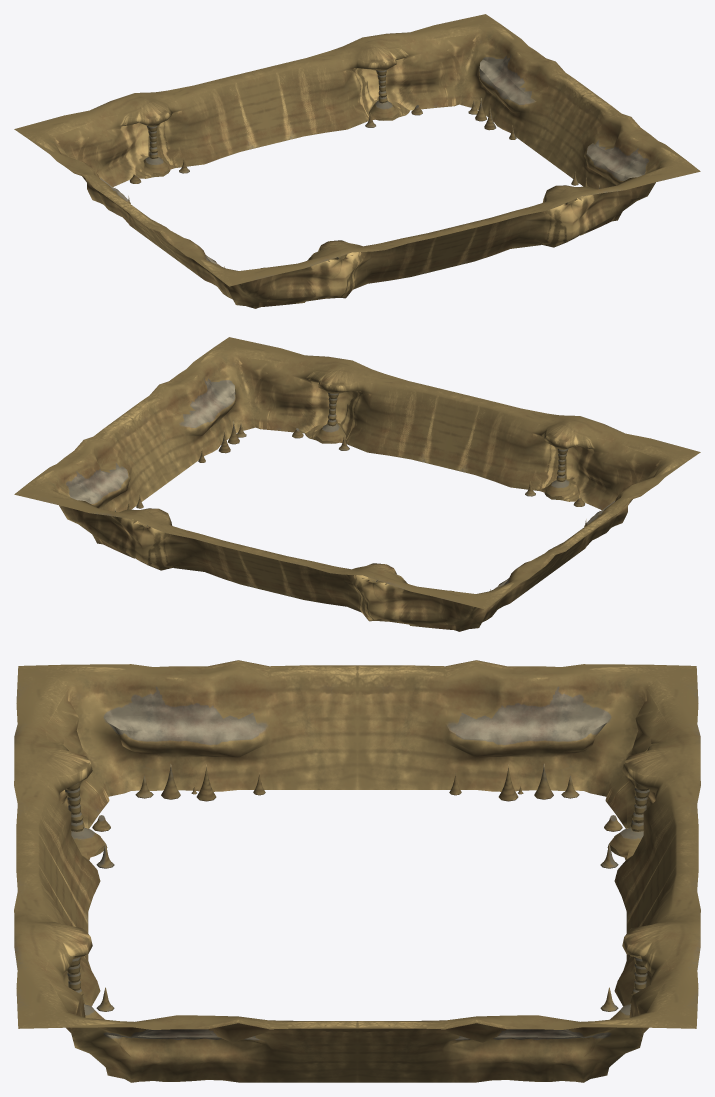
The model's file is Cave_WallsA.FBX.
The picture shows the model from 3 angles, top to bottom: view 1: azimuth 30°, elevation 25°; view 2: azimuth 150°, elevation 25°; view 3: azimuth 270°, elevation 25°; orthographic projection. The views are drawn at different scales.
Parts seen in each view (by area): view 1: Stone_Wall; view 2: Stone_Wall; view 3: Stone_Wall.
Part boxes in pixels (box(x1,y1,x2,y2)): Stone_Wall: box(14, 14, 700, 308); Stone_Wall: box(14, 337, 700, 631); Stone_Wall: box(14, 660, 700, 1082).
Size of the model in its own units: 1323 by 168 by 1058.
1 material, 1 textured.
